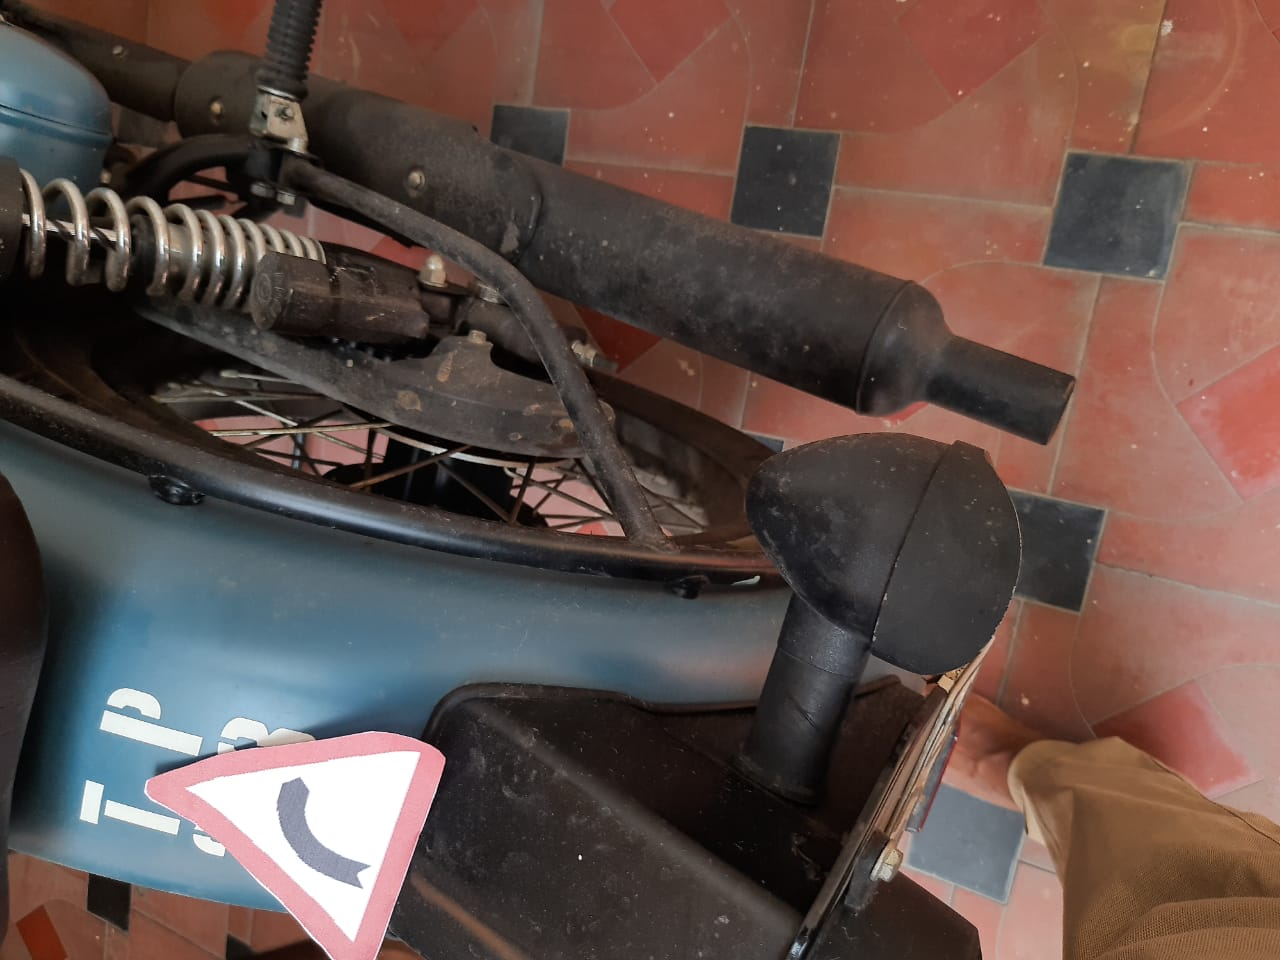RIGHT CURVE: (148, 702, 457, 960)
